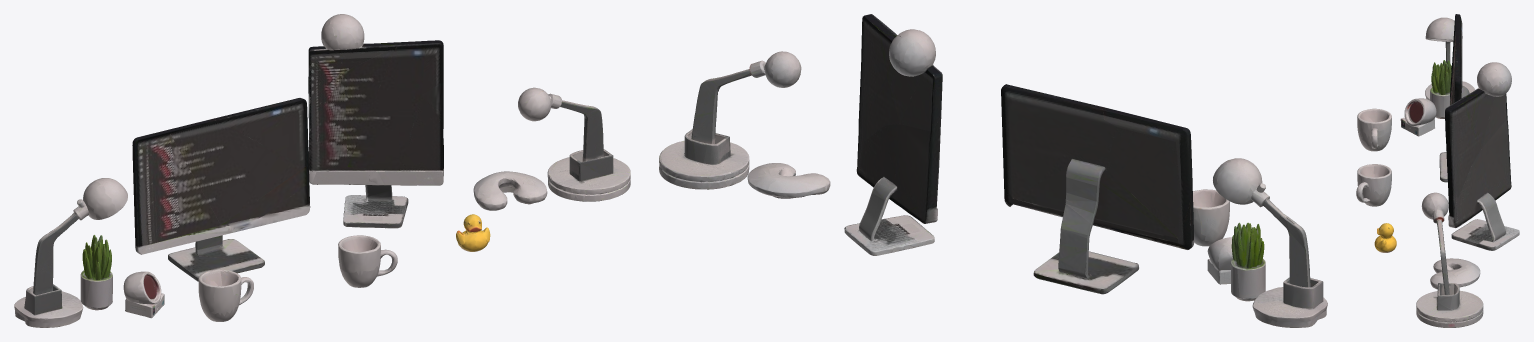
File: ws_fullstack.glb
The picture shows the model from 3 angles, left to right: view 1: azimuth 30°, elevation 25°; view 2: azimuth 150°, elevation 25°; view 3: azimuth 270°, elevation 25°; orthographic projection. The views are drawn at different scales.
Size of the model in its own units: 1.9 by 0.6092 by 0.5503.
Materials: 1 (1 with a texture image).
